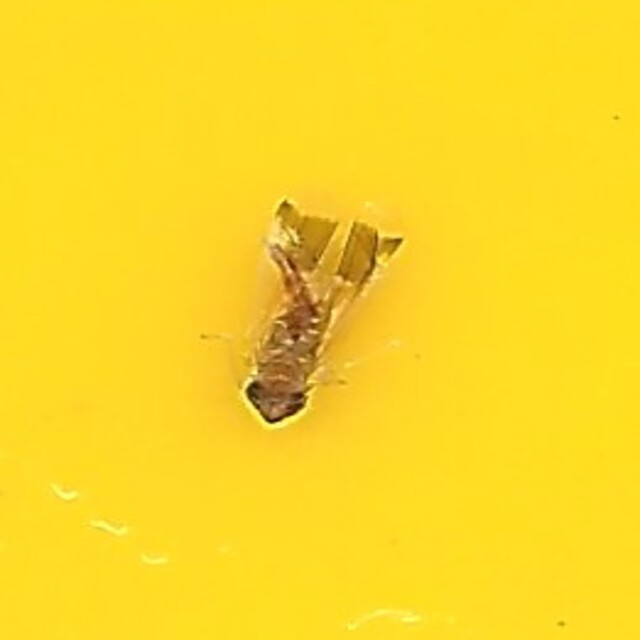Hemiptera: (245, 206, 395, 434)
